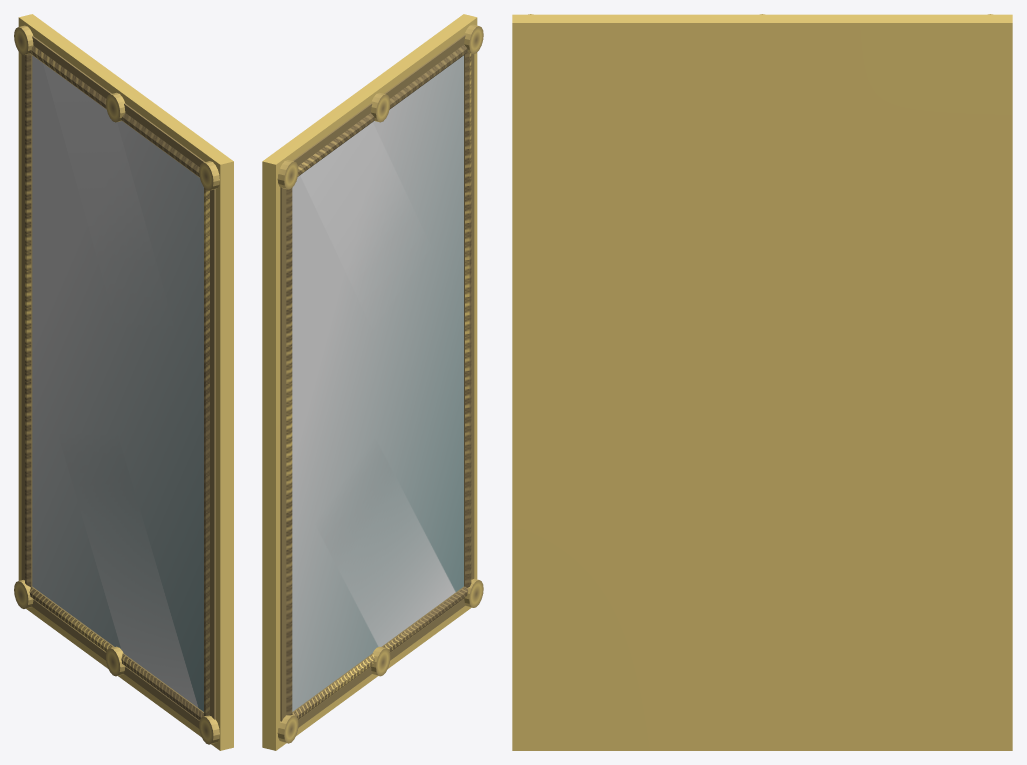
Rendered from classic mirror.fbx.
3 views of the same model, side by side, from view 1: azimuth 30°, elevation 25°; view 2: azimuth 150°, elevation 25°; view 3: azimuth 270°, elevation 25° (orthographic). The views are drawn at different scales.
Parts seen in each view (by area): view 1: classic mirror; view 2: classic mirror; view 3: classic mirror.
Boxes of the visible parts, box(x1,y1,x2,y2) form: classic mirror: box(14, 14, 233, 750); classic mirror: box(262, 14, 483, 750); classic mirror: box(512, 14, 1012, 750).
Size of the model in its own units: 6.17 by 171 by 106.
Materials: 1 (1 with a texture image).
